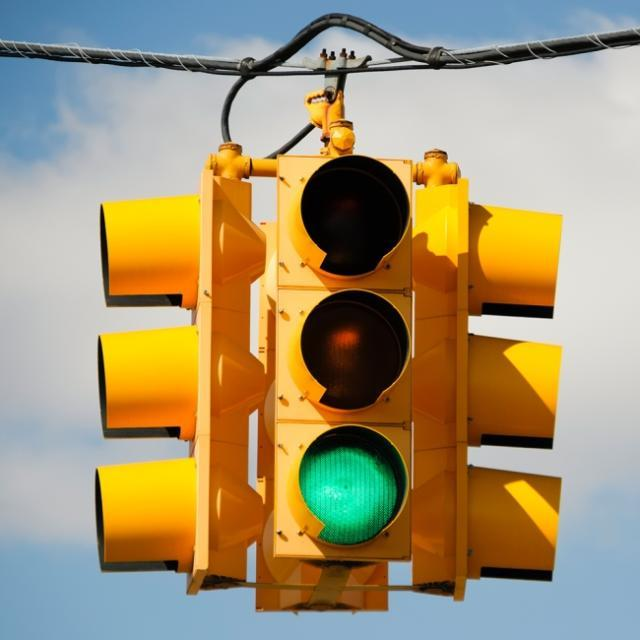suv: (94, 165, 266, 595), (411, 175, 564, 602), (268, 153, 414, 566)
